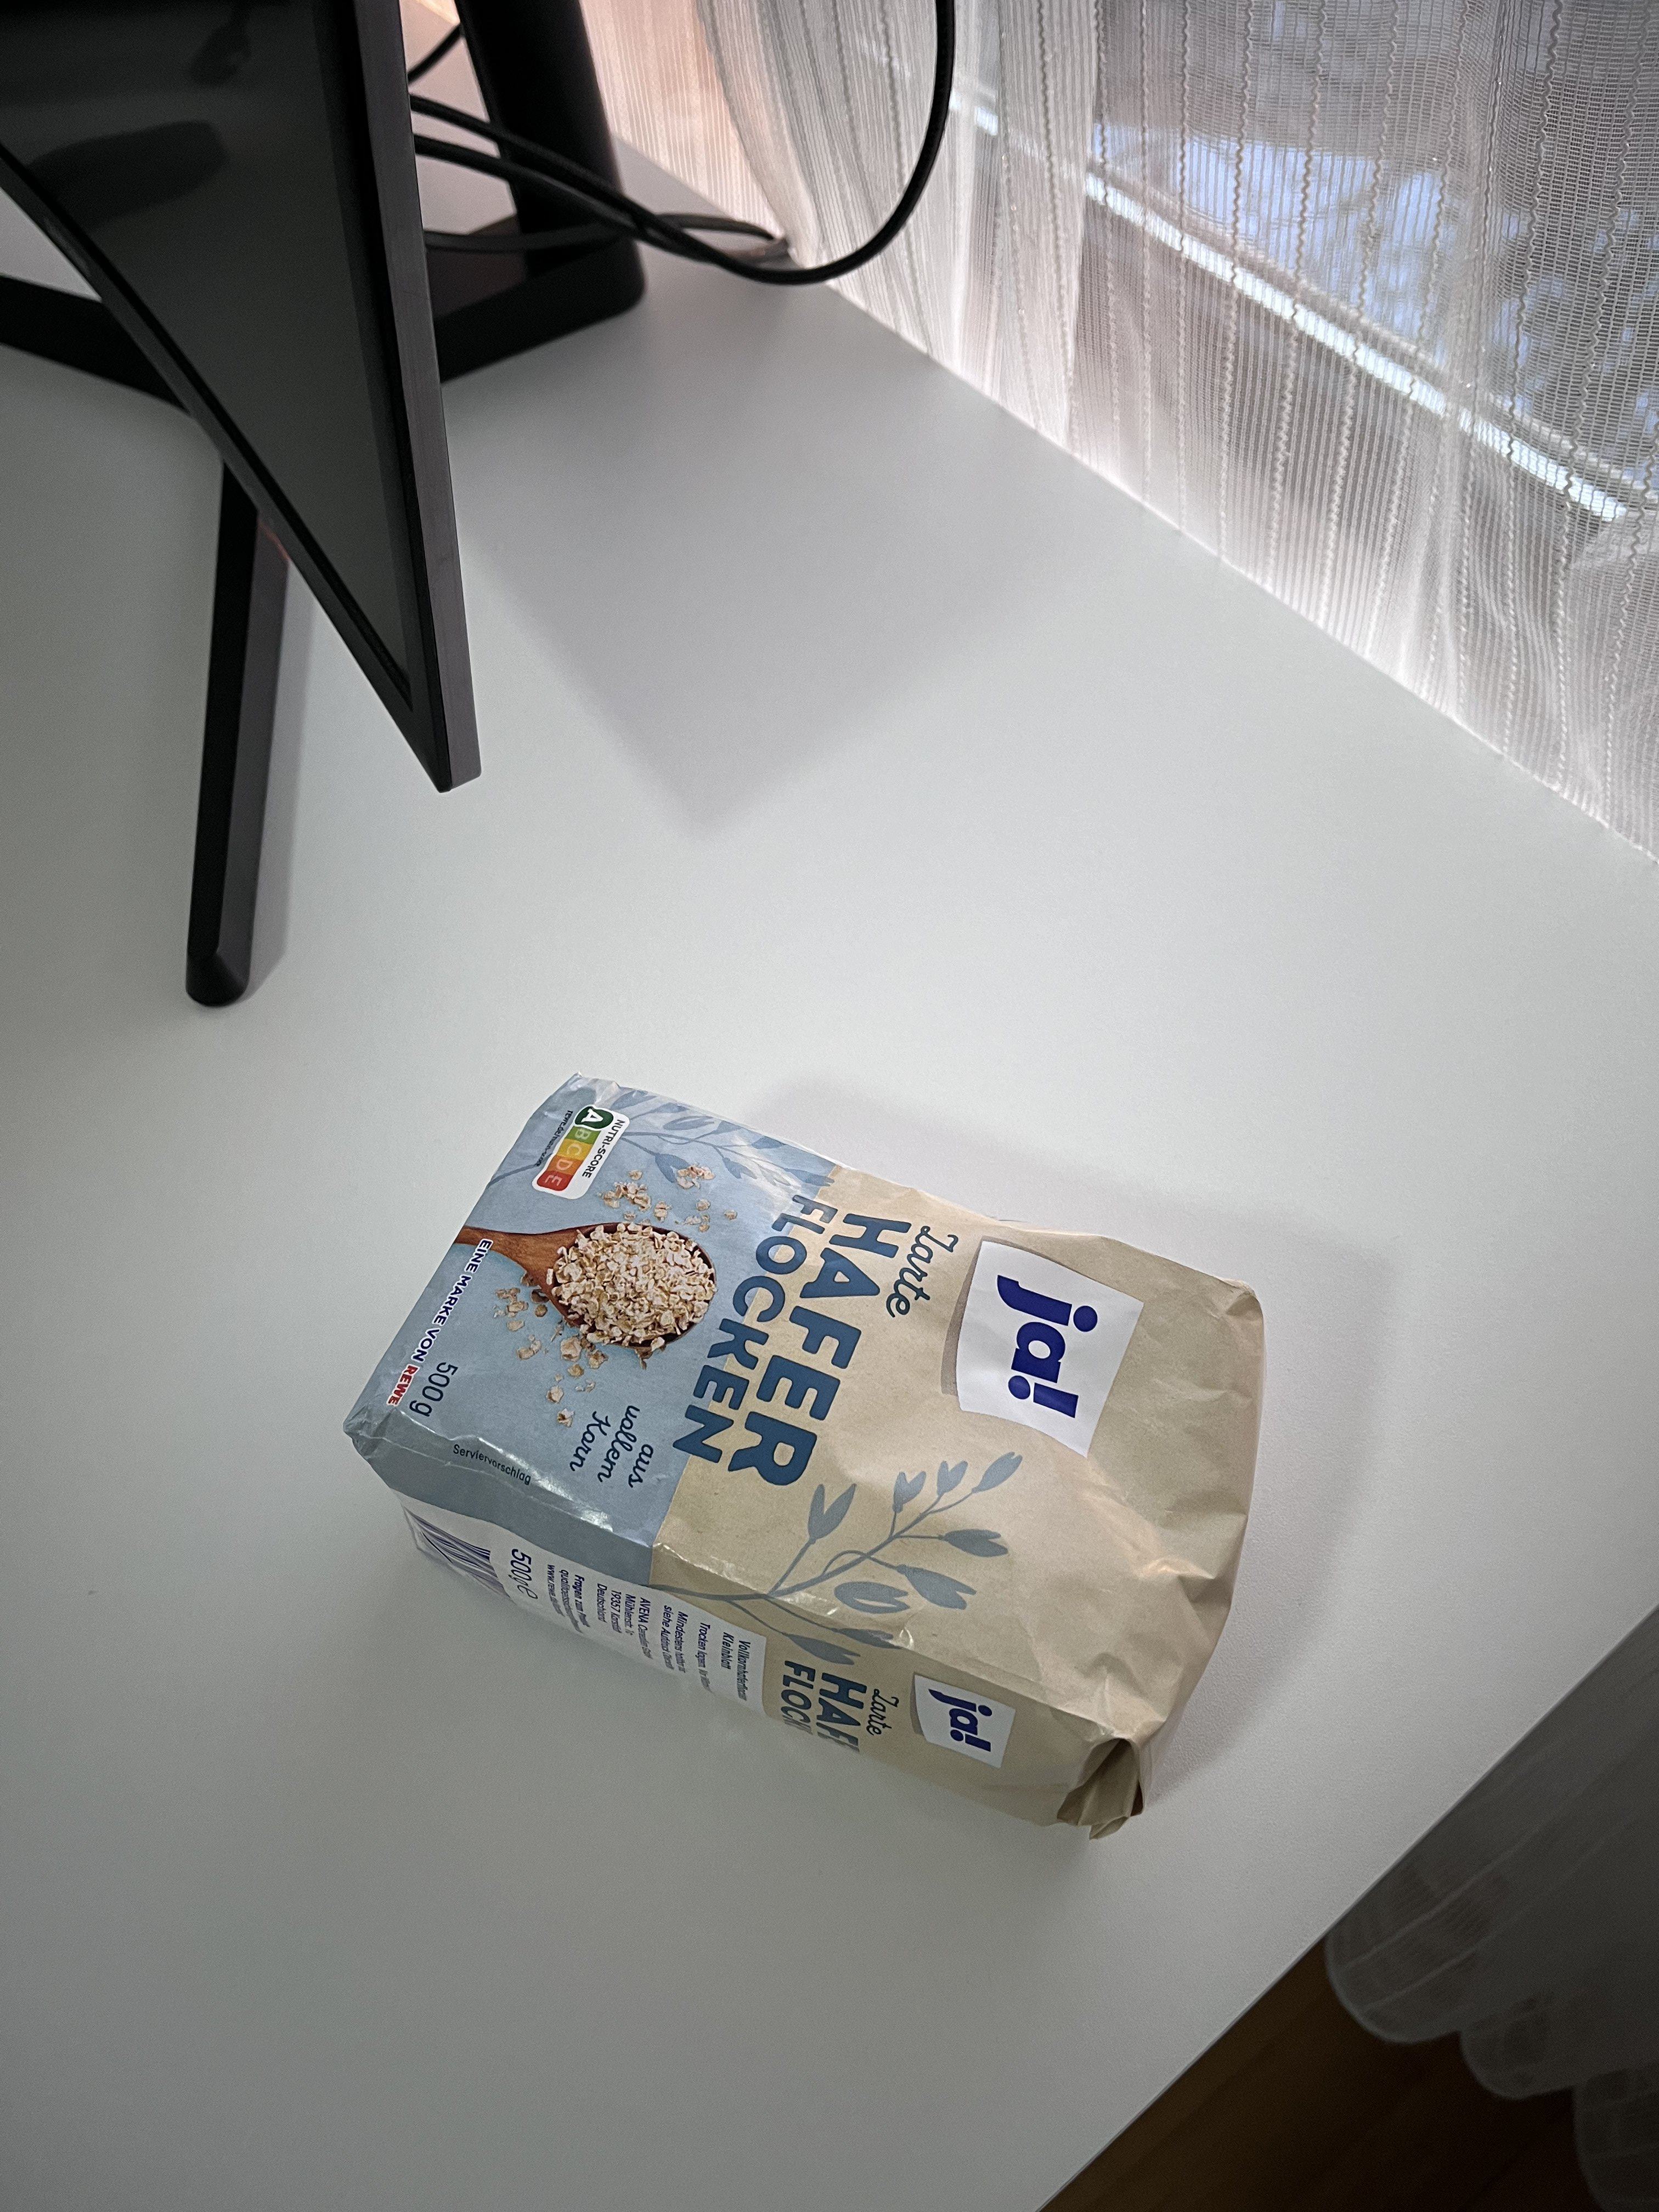haferflocken_ja: (347, 1071, 1270, 1836)
